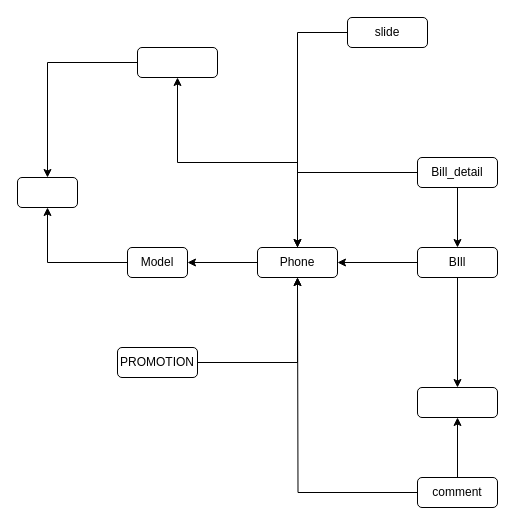
Image size: 515x525. Some labels were removed from this diagram. The shapes that lost their labels are listed below. From the top down, each one's box as (x1, y1, x2, y2) in pixels, then its label:
(136, 46, 218, 78): KHO
(16, 176, 78, 208): Supplier
(416, 386, 498, 418): user
